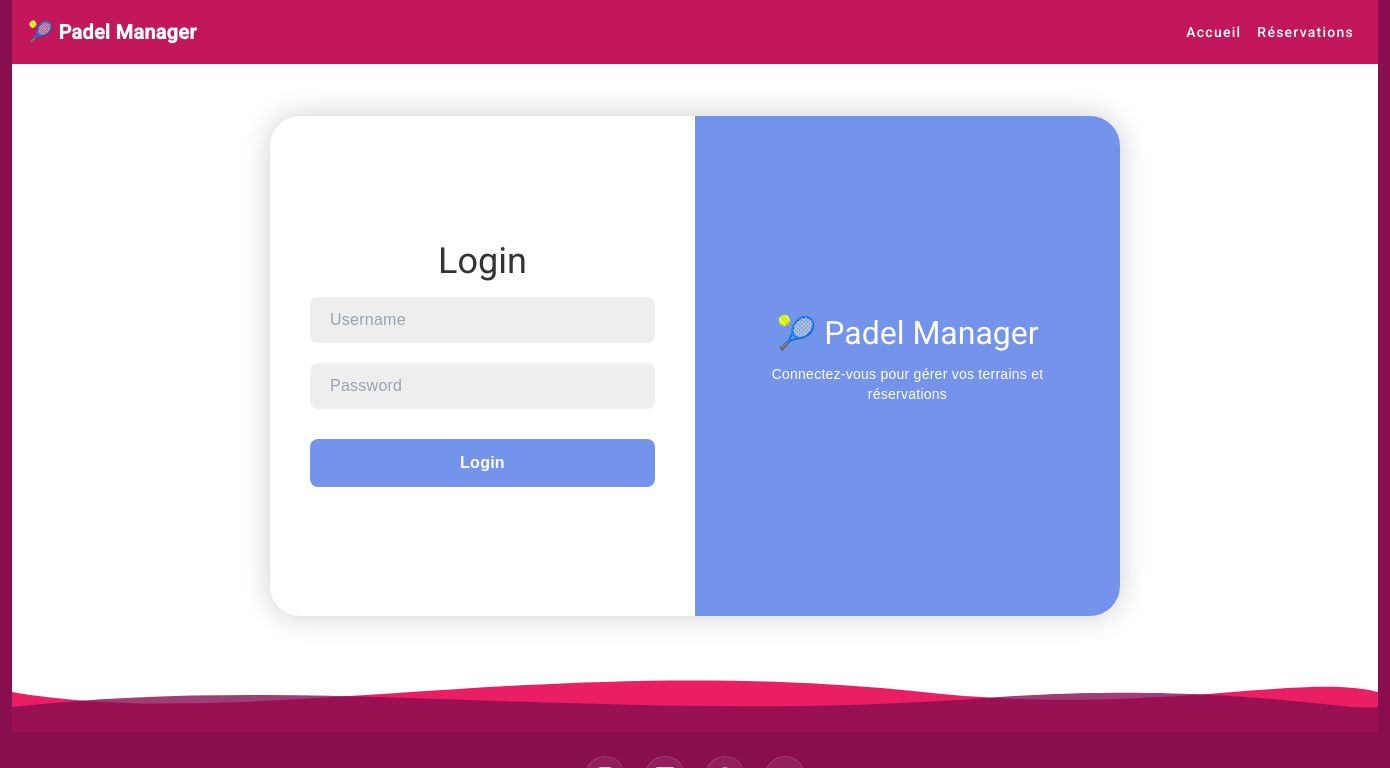
Test: Login › should show error with wrong credentials
Expected: the element with placeholder "Username" is enabled
Type "wronguser" into the field with placeholder "Username" at (483, 320), box [310,297,655,343]
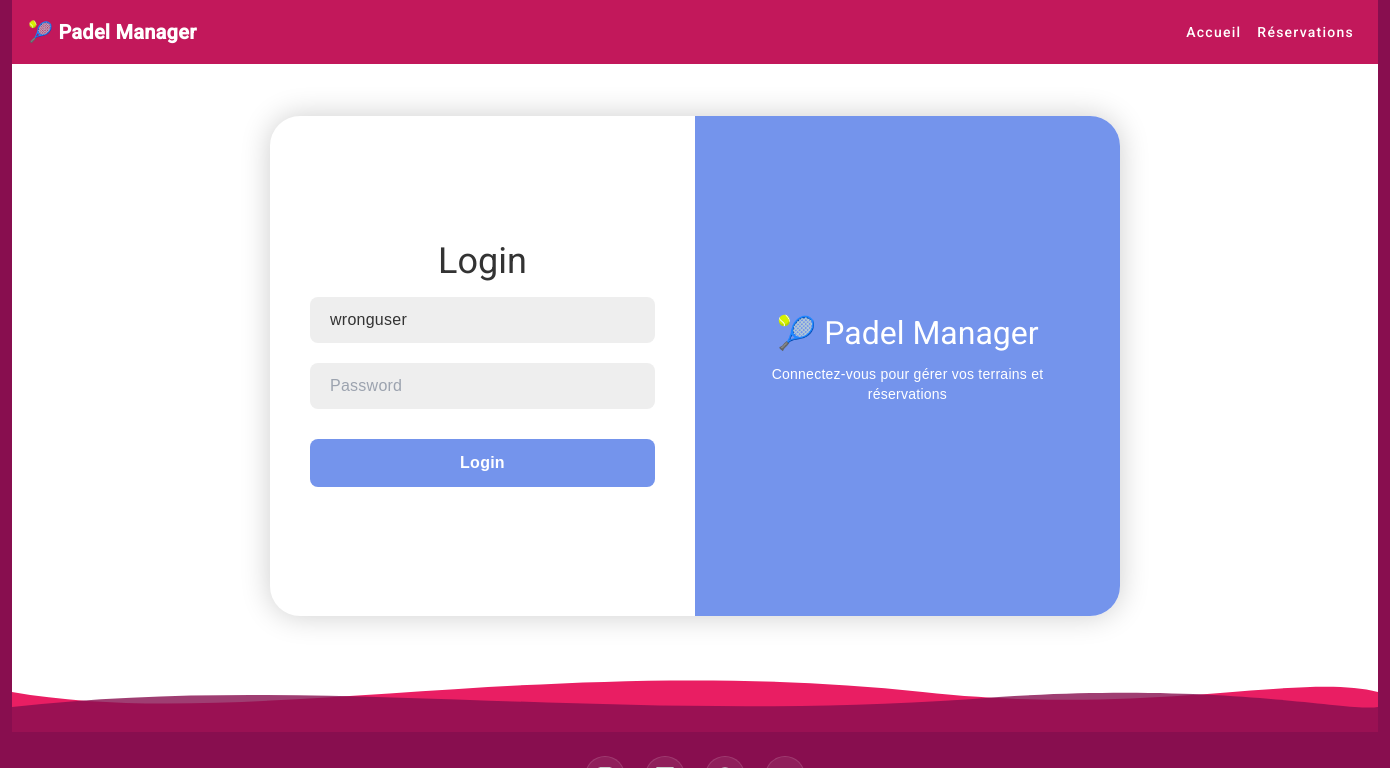
Expected: the element with placeholder "Password" is enabled
Type "wrongpassword" into the password field with placeholder "Password" at (483, 386), box [310,363,655,409]
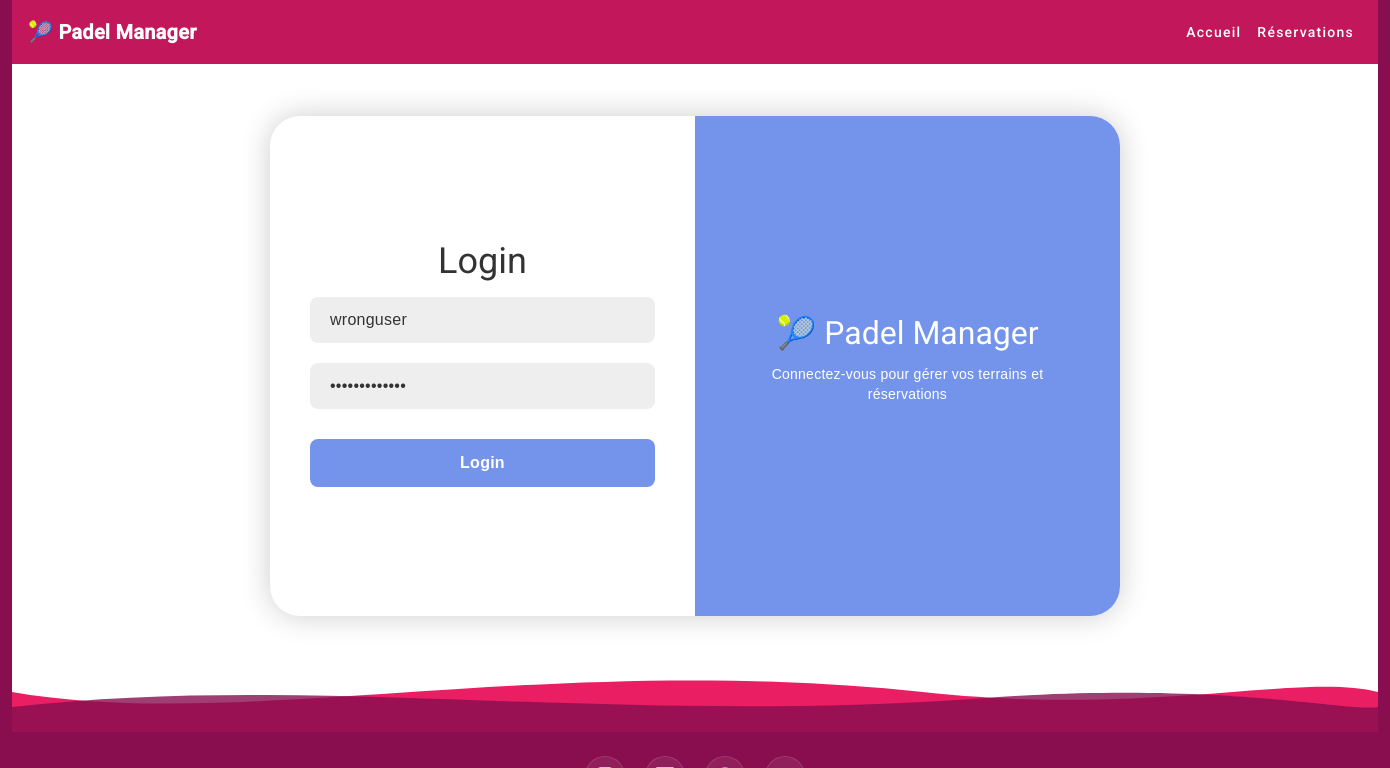
Click the submit button at (483, 463), box [310,439,655,487]
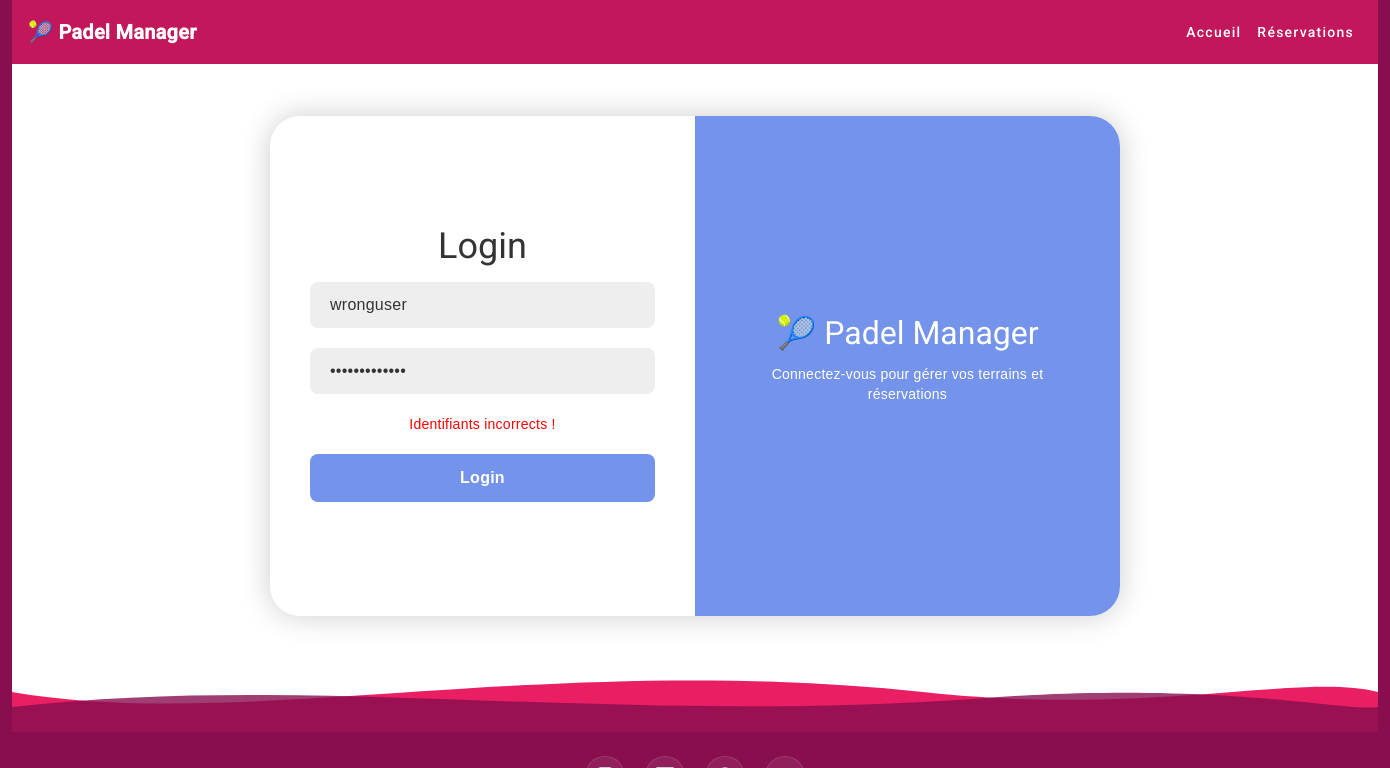
Now the text "Identifiants incorrects" is shown, box [409,416,555,432]
